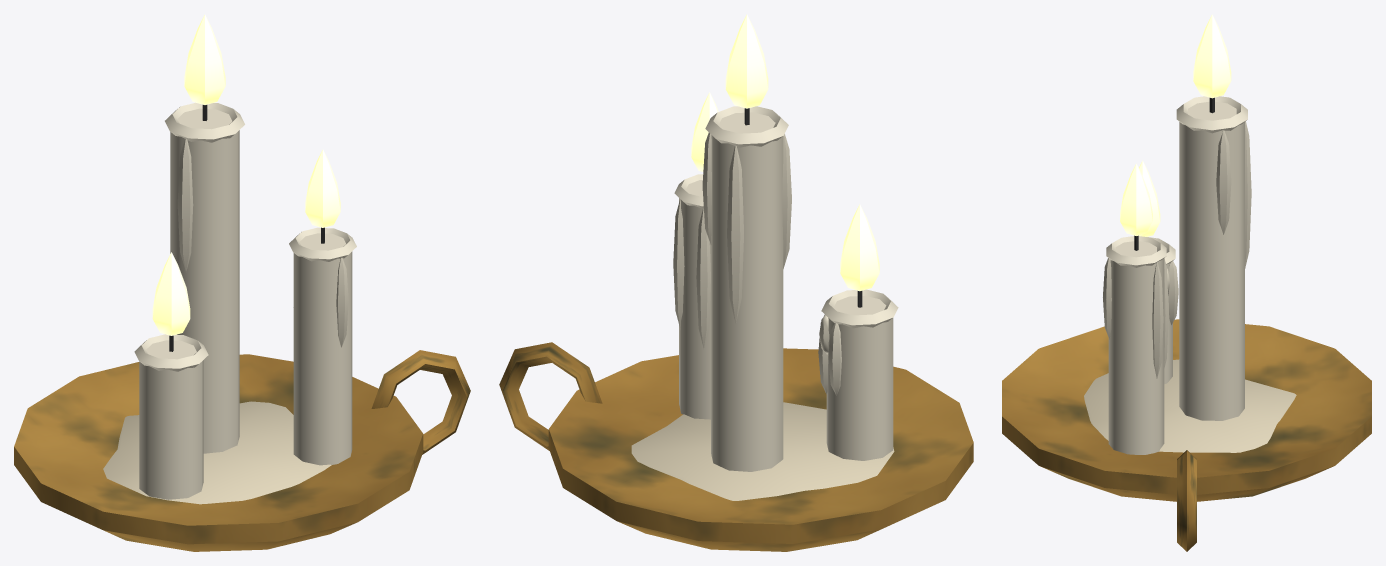
The model's file is candelabrum_short.glb.
3 views of the same model, side by side, from view 1: azimuth 30°, elevation 25°; view 2: azimuth 150°, elevation 25°; view 3: azimuth 270°, elevation 25° (orthographic). The views are drawn at different scales.
Visible parts, largest first — view 1: candelabrum_short; view 2: candelabrum_short; view 3: candelabrum_short.
Boxes of the visible parts, x1,y1,x2,y2 form: candelabrum_short: (14,14,470,551); candelabrum_short: (499,14,973,551); candelabrum_short: (1002,14,1371,551).
Bounding box in the file's own units: 0.363 × 0.3887 × 0.2925.
5 materials, 1 textured.
